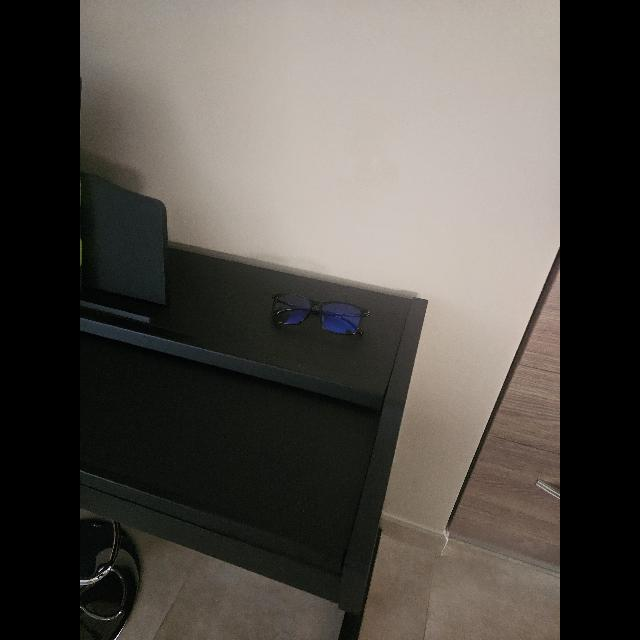glasses: (271, 293, 369, 335)
